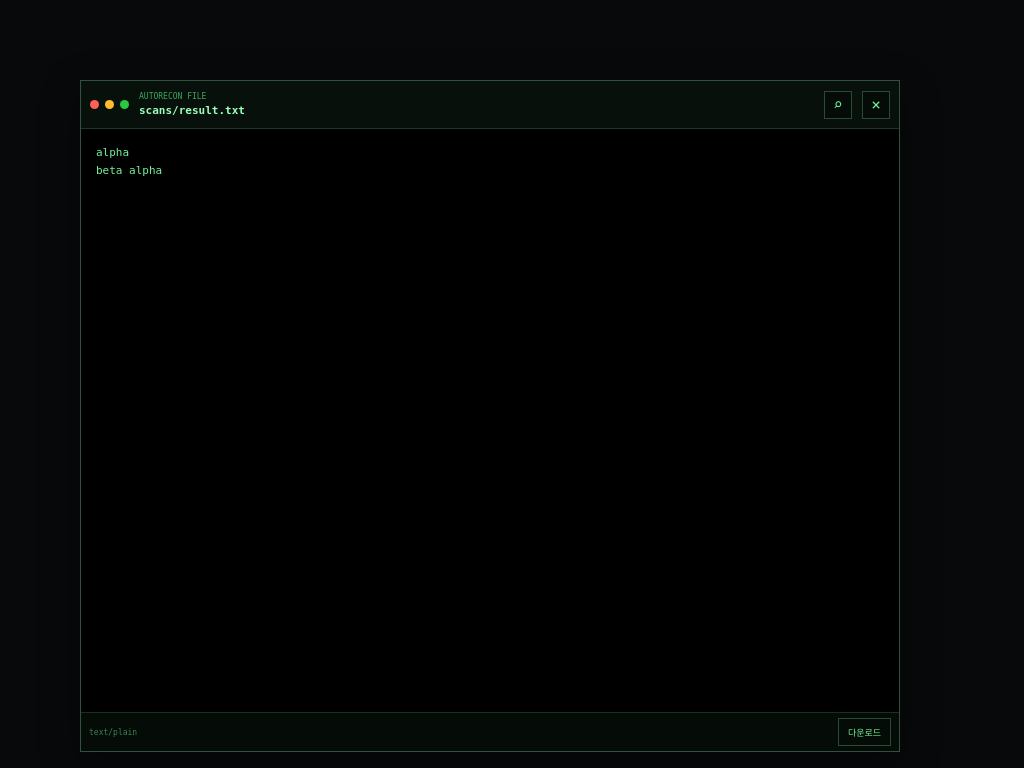
Test: opens a movable, eight-way resizable terminal preview with Ctrl+F search
Expected: the header with test id "file-preview-drag-handle" is shown, [81, 81, 899, 129]
Step 1. Press f
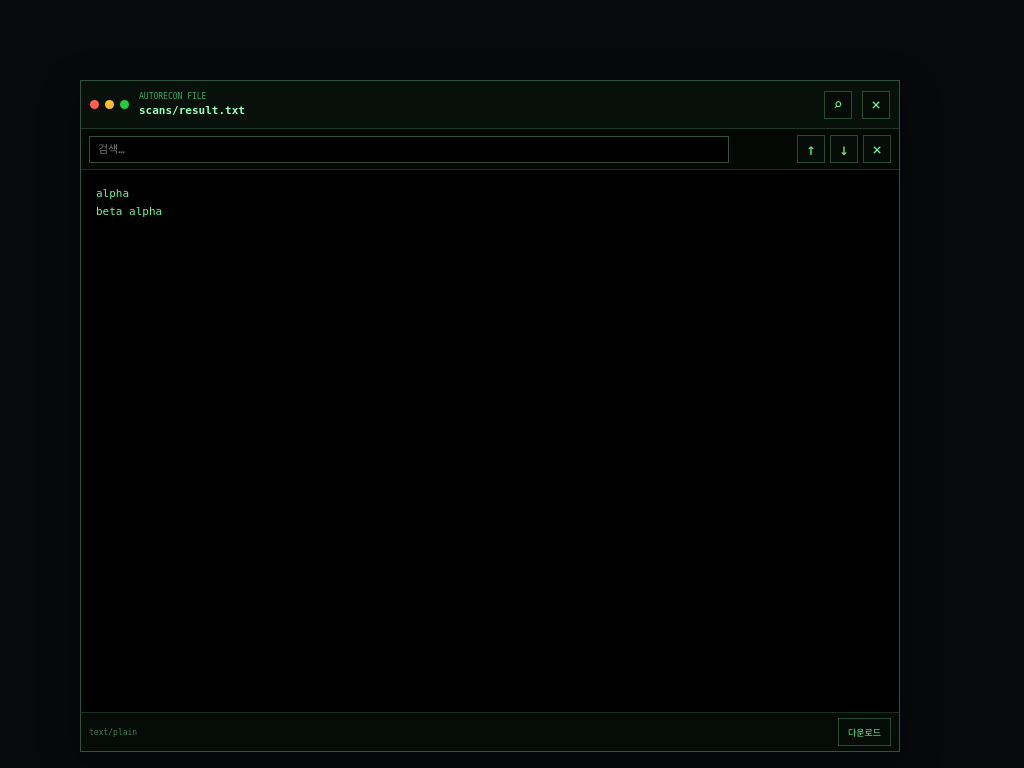
Step 2. Type "alpha" into the search field named "파일 내용 검색" → (409, 149), box [89, 136, 729, 162]
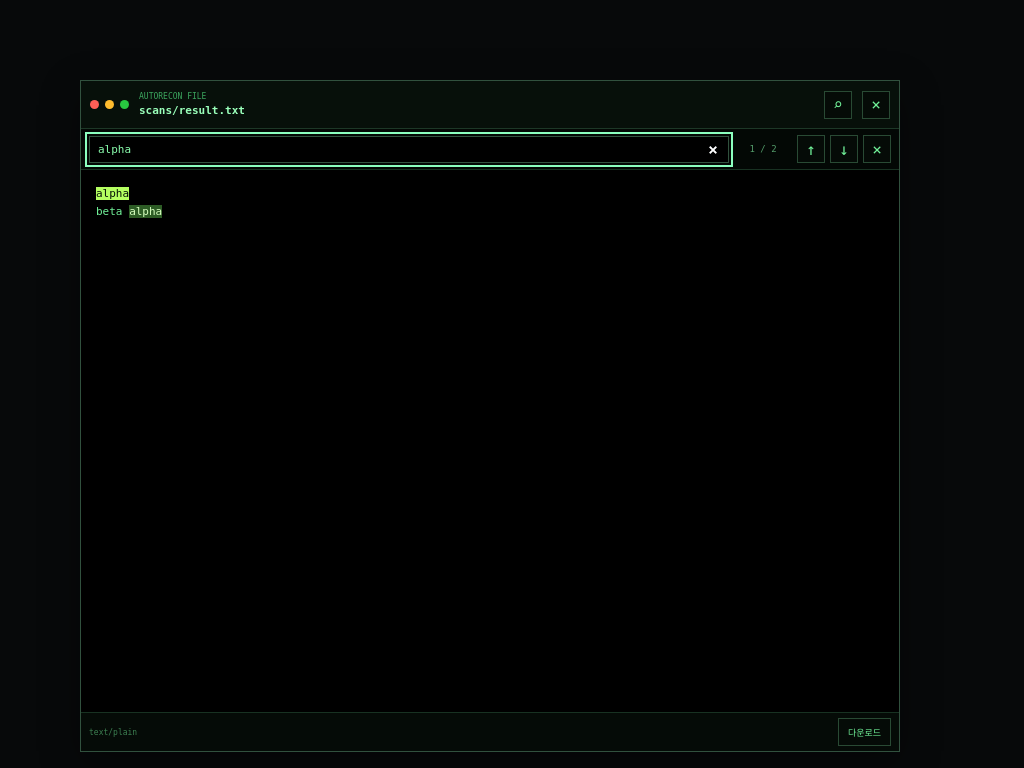
Expected: the text "alpha beta alpha" is shown, [81, 170, 899, 712]
Expected: the text "1 / 2" is shown, [750, 144, 777, 154]
